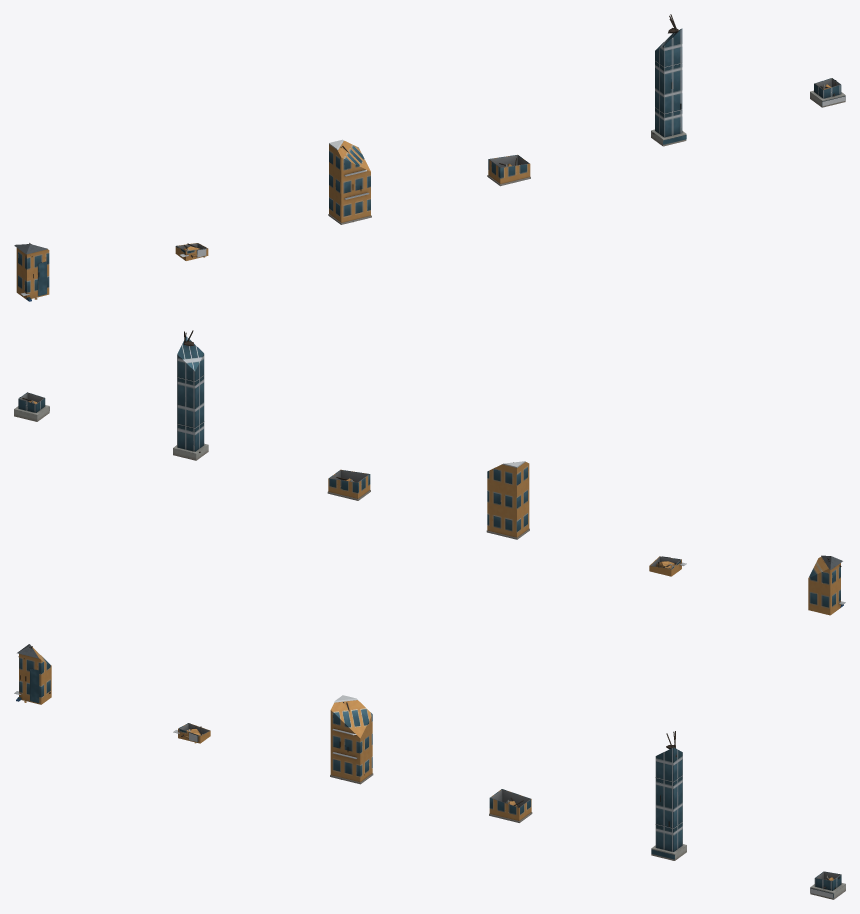
File: information-indic-houses-damage.glb
The picture shows the model from 3 angles, top to bottom: view 1: azimuth 30°, elevation 25°; view 2: azimuth 150°, elevation 25°; view 3: azimuth 330°, elevation 25°; orthographic projection.
Parts seen in each view (by area): view 1: LOD0.004, LOD0.002, LOD0, LOD0.003, LOD0.005; view 2: LOD0.004, LOD0.002, LOD0, LOD0.003, LOD0.005; view 3: LOD0.002, LOD0.004, LOD0, LOD0.003, LOD0.005, LOD0.001.
Boxes of the visible parts, x1=… form: LOD0.004: x1=651, y1=14, x2=686, y2=146; LOD0.002: x1=328, y1=139, x2=371, y2=224; LOD0: x1=14, y1=243, x2=49, y2=301; LOD0.003: x1=487, y1=154, x2=530, y2=186; LOD0.005: x1=810, y1=78, x2=845, y2=107; LOD0.004: x1=173, y1=330, x2=208, y2=460; LOD0.002: x1=486, y1=461, x2=529, y2=539; LOD0: x1=808, y1=555, x2=845, y2=615; LOD0.003: x1=327, y1=469, x2=370, y2=500; LOD0.005: x1=14, y1=392, x2=49, y2=421; LOD0.002: x1=330, y1=695, x2=373, y2=784; LOD0.004: x1=651, y1=731, x2=686, y2=860; LOD0: x1=14, y1=644, x2=51, y2=704; LOD0.003: x1=489, y1=789, x2=532, y2=822; LOD0.005: x1=810, y1=871, x2=845, y2=899; LOD0.001: x1=173, y1=723, x2=210, y2=743.
Size of what is drawn, in the model's own units: 15.49 by 2.21 by 0.46.
Materials: 1 (1 with a texture image).
